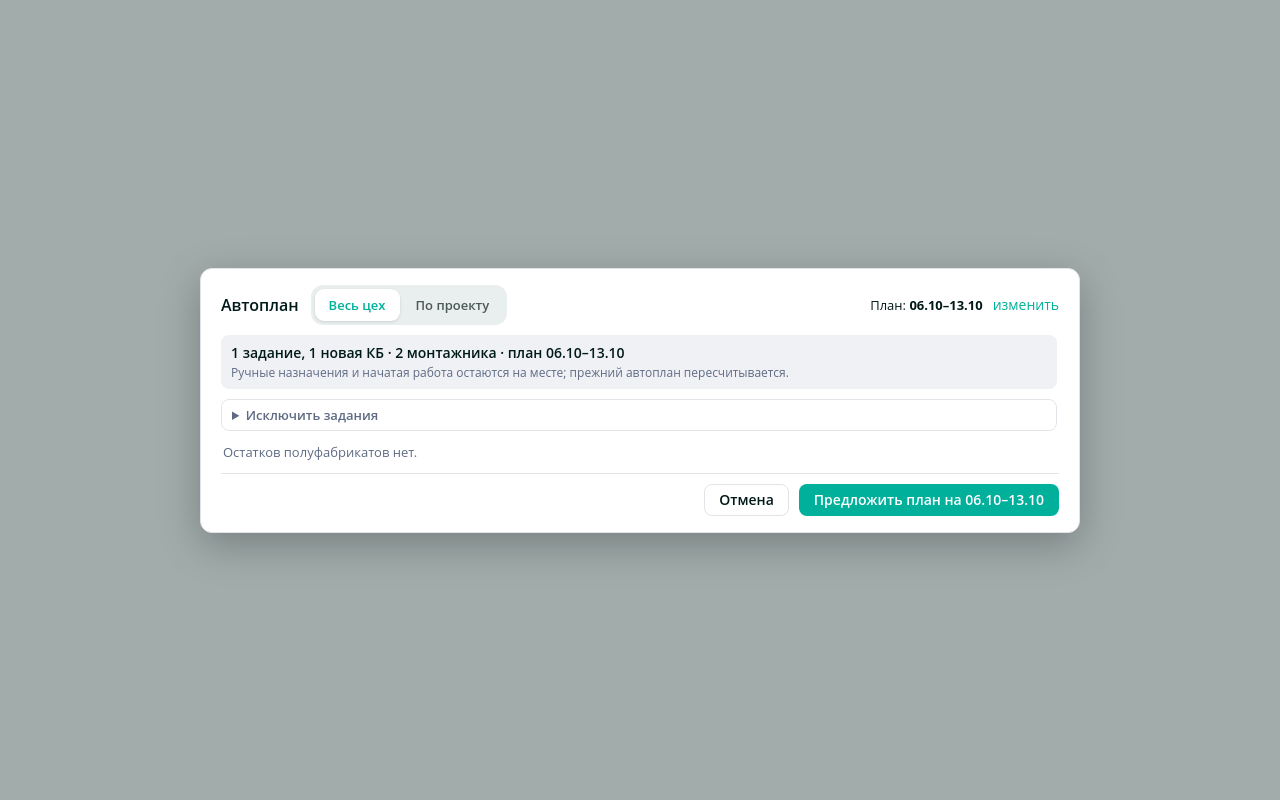
Scenario: shows the stale message on 409 and recalculates the preview
Click the button "Предложить план на 06.10–13.10": {"x": 929, "y": 500} [799,484,1059,516]
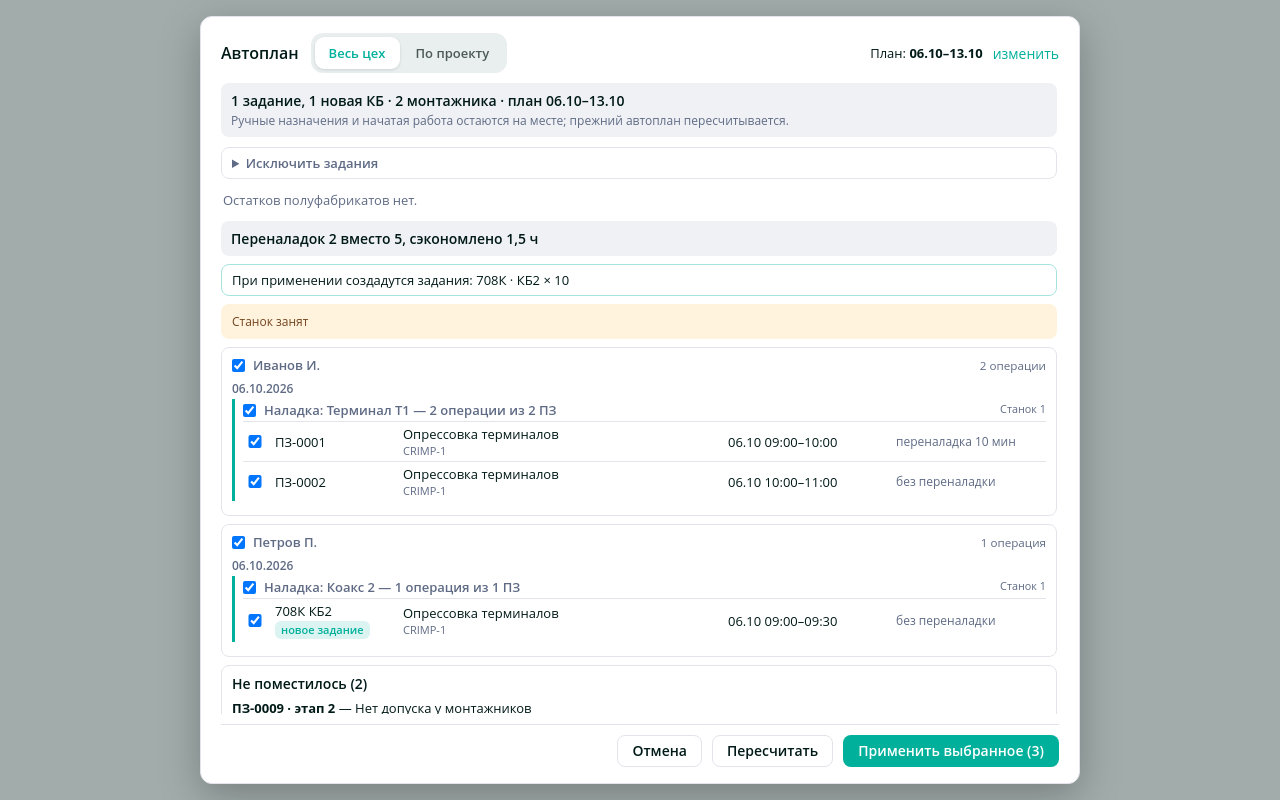
Now the text "Переналадок 2 вместо 5, сэкономлено 1,5 ч" is shown, box [221,221,1057,256]
Click the button "Применить выбранное (3)": {"x": 951, "y": 751} [843,735,1059,767]
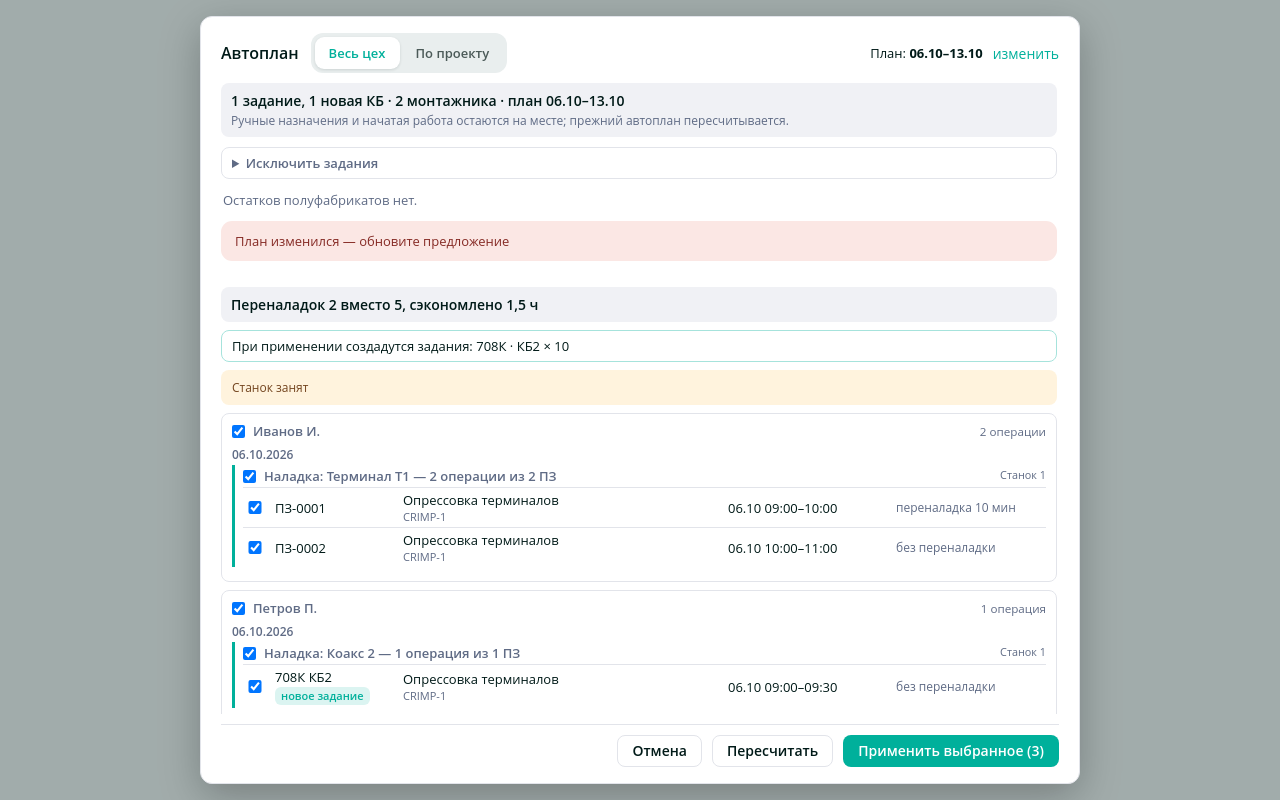
Now the text "План изменился — обновите предложение" is shown, box [221,221,1057,261]
